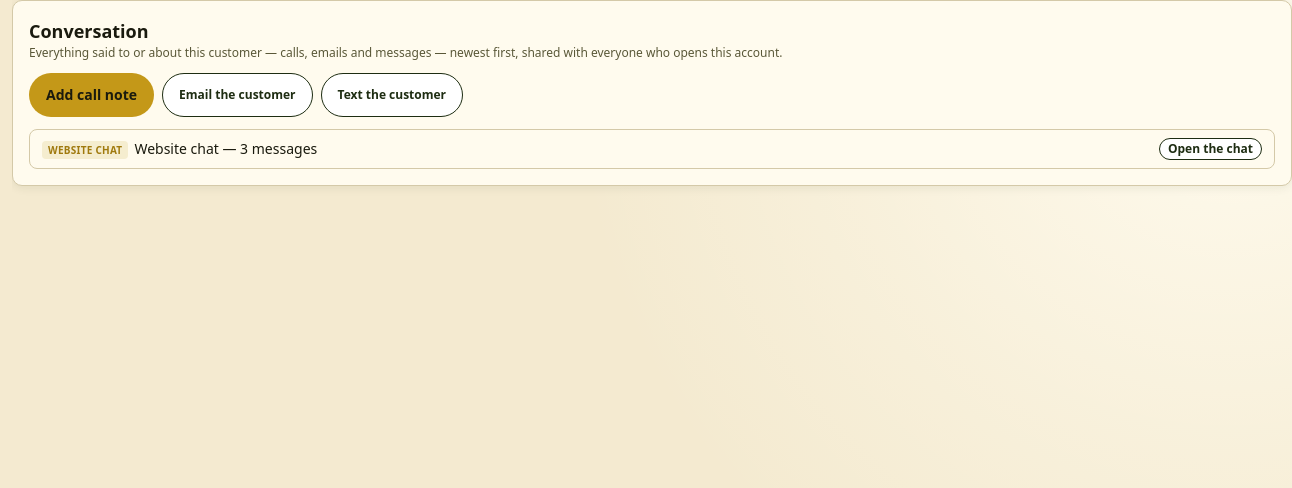
Test: reading the conversation › is one line for the website chat, and 'Open the chat' opens the lead
This screenshot has width=1292, height=488.
Expected: the list item shows "Website chat — 3 messages", [29,129,1275,169]
Click the button "Open the chat": click(1210, 149) [1159,138,1262,160]
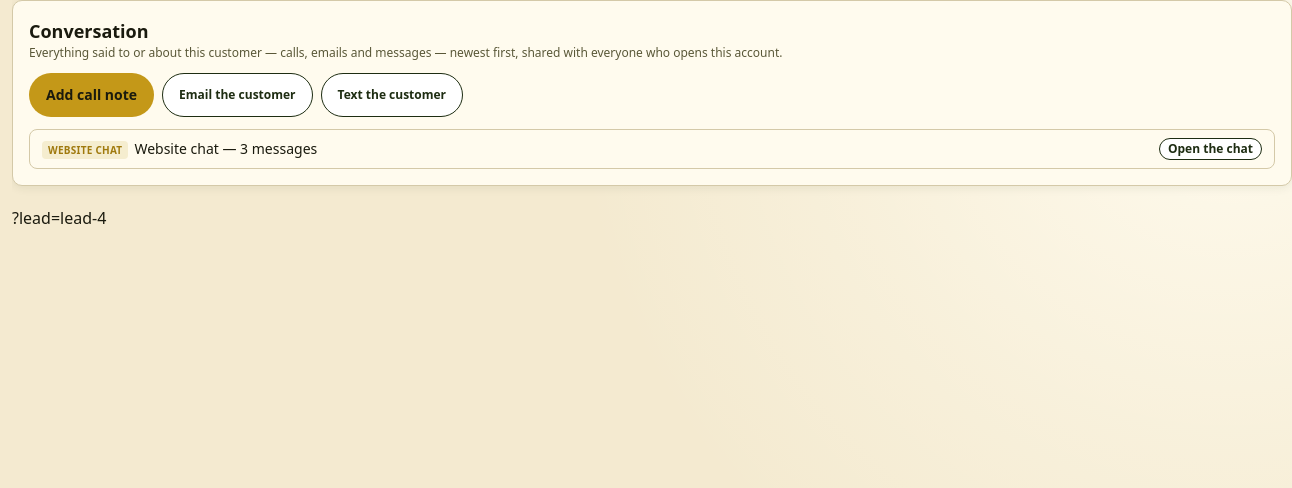
Result: the text with test id "location" reads "?lead=lead-4" at [12,207,106,229]
